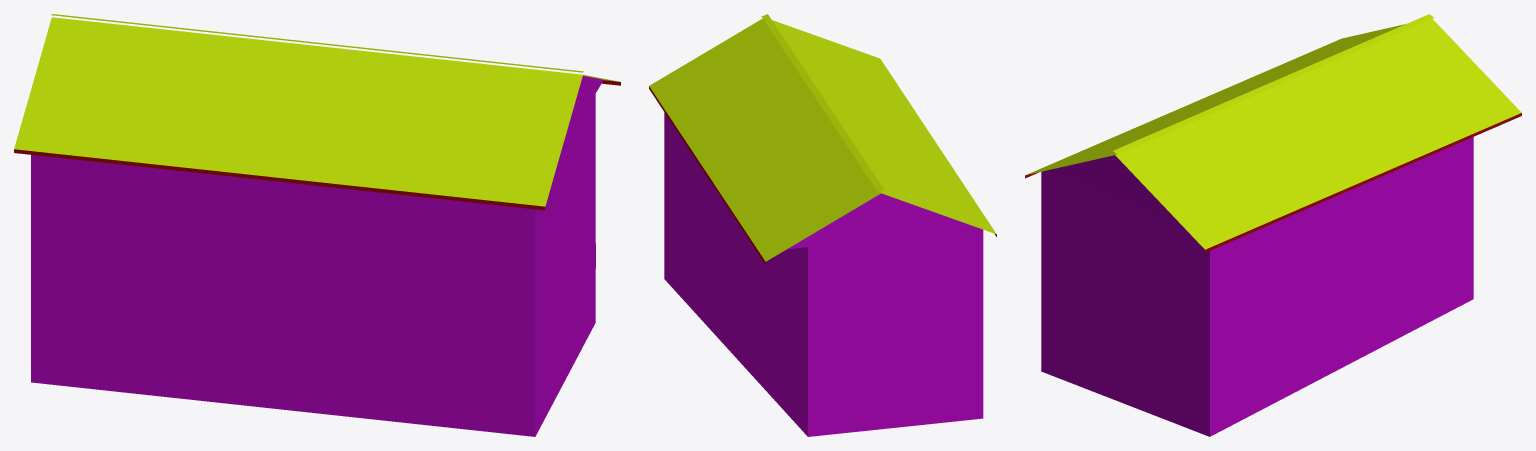
Rendered from svc_30.glb.
3 renders of one model, left to right at view 1: azimuth 30°, elevation 25°; view 2: azimuth 150°, elevation 25°; view 3: azimuth 270°, elevation 25°, orthographic. The views are drawn at different scales.
Parts seen in each view (by area): view 1: svc_30; view 2: svc_30; view 3: svc_30.
Part boxes in pixels (<box>): svc_30: <box>14,14,620,436</box>; svc_30: <box>649,14,996,436</box>; svc_30: <box>1025,14,1521,436</box>.
Bounding box in the file's own units: 17.35 × 9.84 × 17.24.
